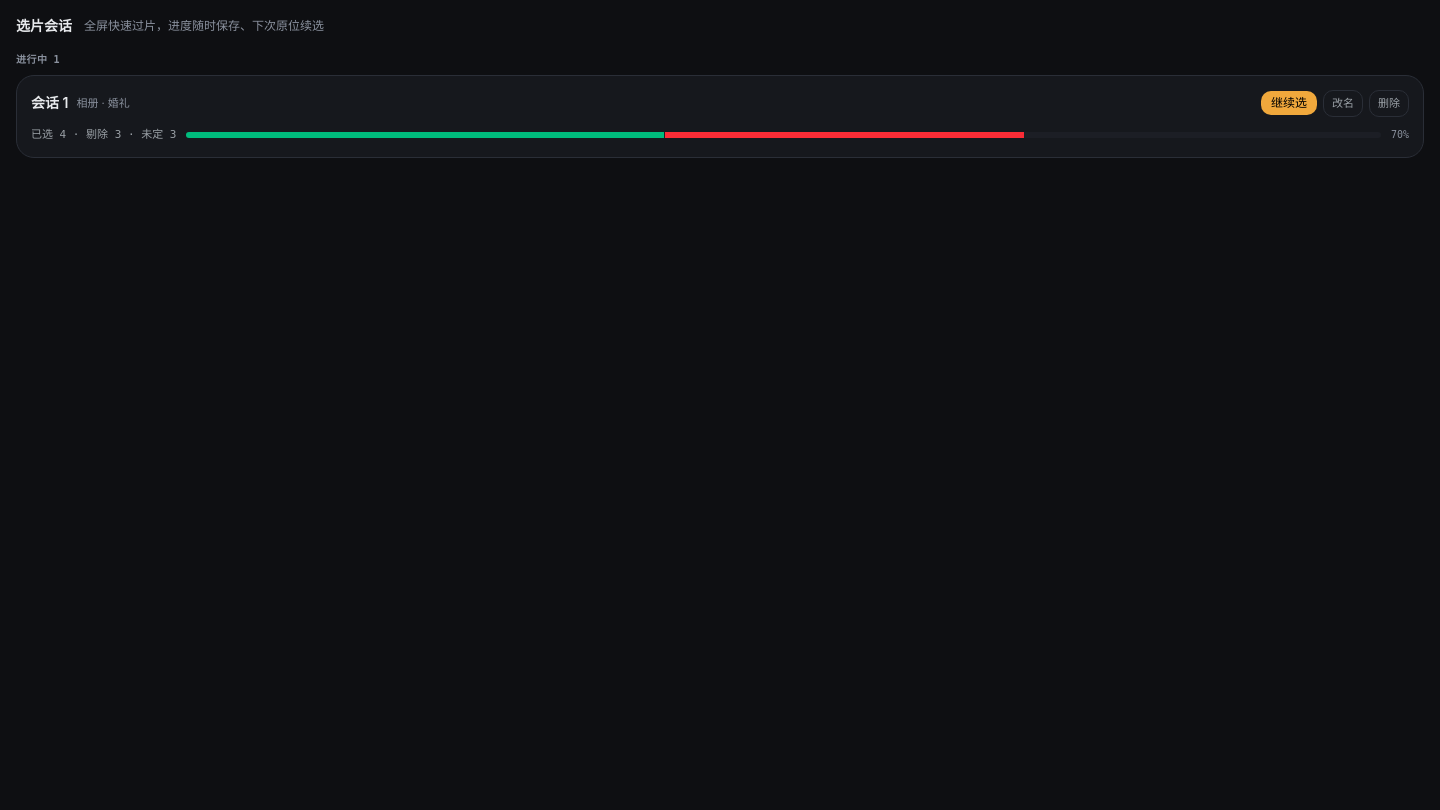
选片会话页（CullingPage /culling） › 删除：确认后 cullSessionDiscard + 卡片消失 + 徽标刷新
The width and height of the screenshot is (1440, 810).
Click the button with test id "culling-session-delete".
click(1389, 103)  # box [1369,90,1409,116]
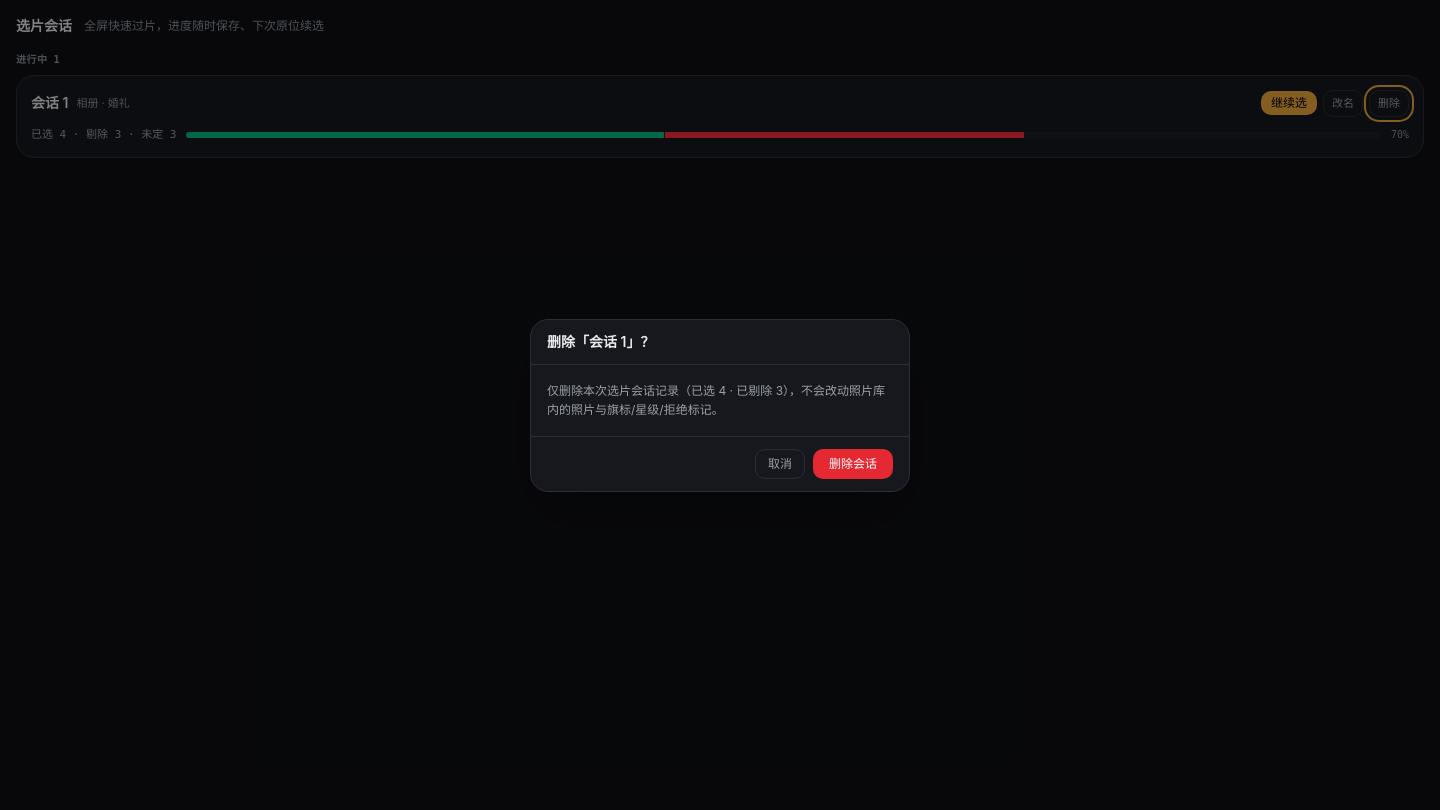
Click the button with test id "culling-delete-confirm".
click(853, 464)  # box [813,448,893,478]
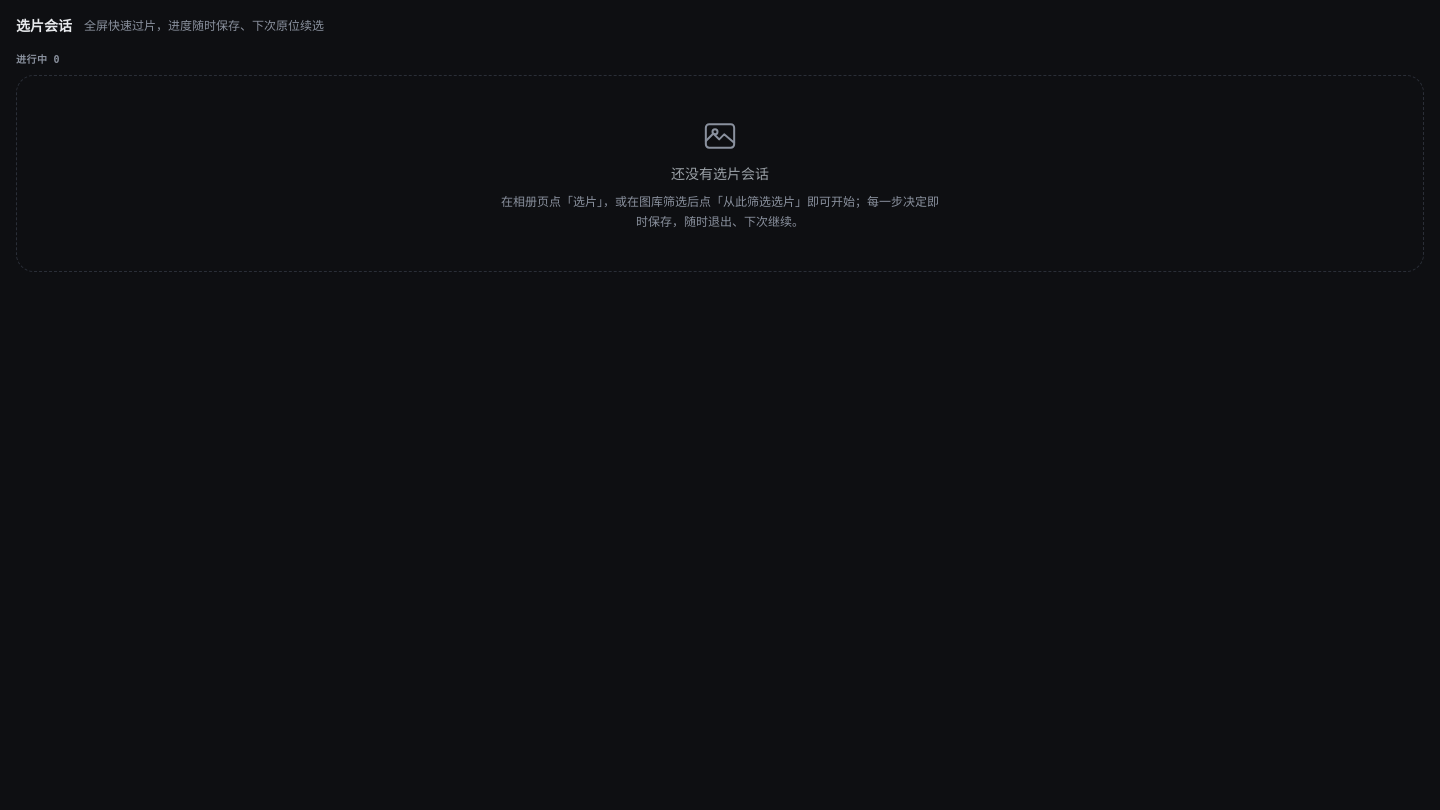
Expected: the element with test id "culling-session-card" is gone
